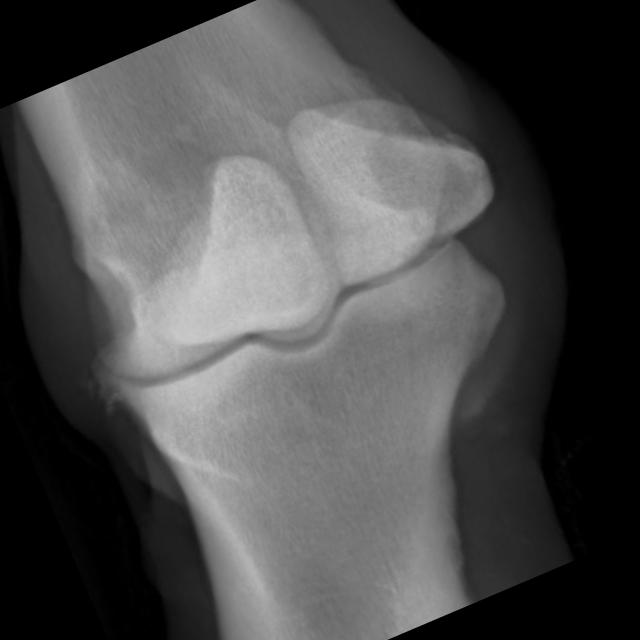bone remodeling: (66, 312, 186, 441)
